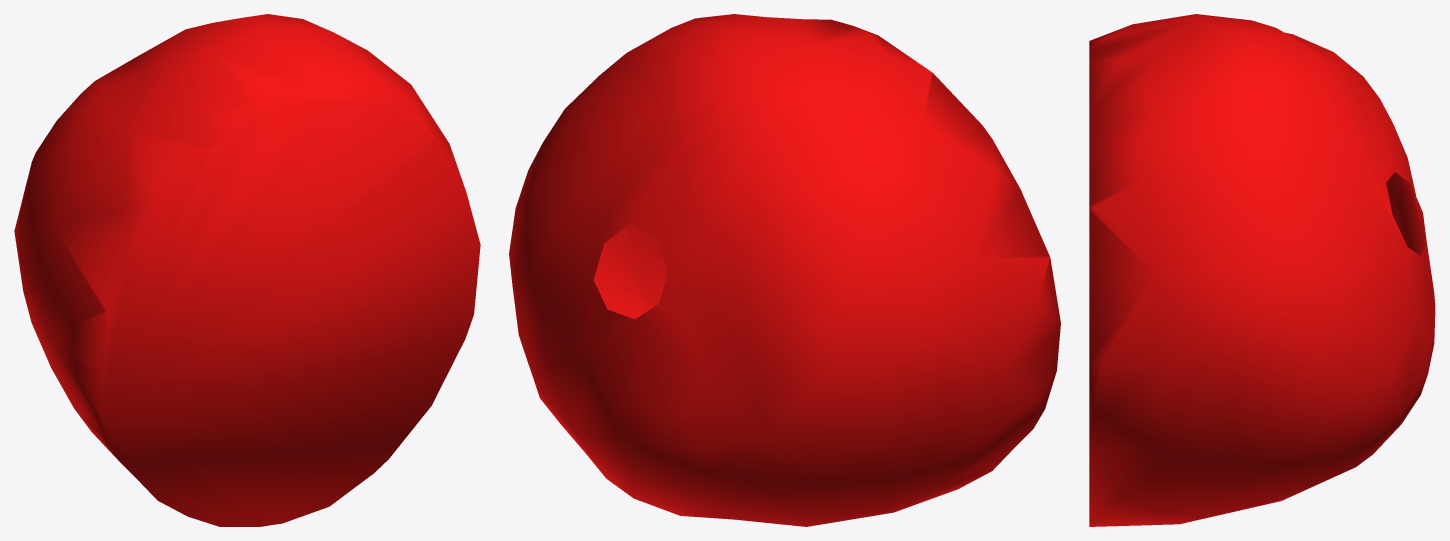
Rendered from strawberry_right.obj.
3 views of the same model, side by side, from view 1: azimuth 30°, elevation 25°; view 2: azimuth 150°, elevation 25°; view 3: azimuth 270°, elevation 25° (orthographic). The views are drawn at different scales.
Parts seen in each view (by area): view 1: strawberry; view 2: strawberry; view 3: strawberry.
Boxes of the visible parts, x1,y1,x2,y2 form: strawberry: (14,14,480,526); strawberry: (509,14,1060,526); strawberry: (1089,14,1435,526).
Bounding box in the file's own units: 0.0811 × 0.0857 × 0.055.
